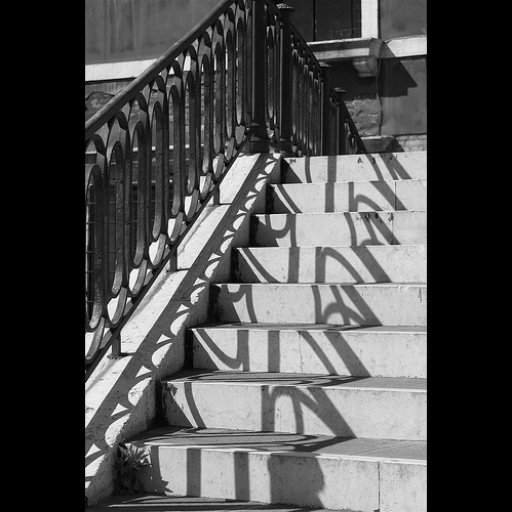Stairs: (87, 152, 426, 512)
